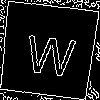W: (23, 25, 79, 78)
